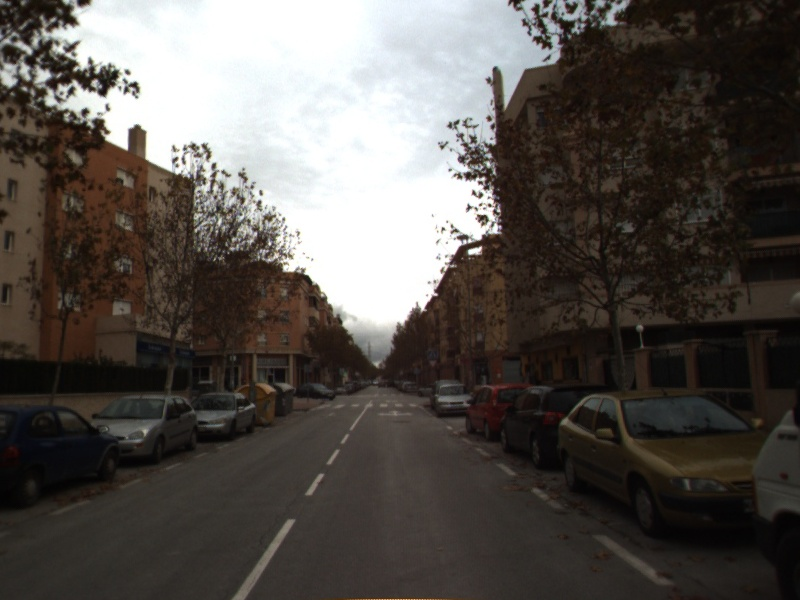STRAIGHT_LEFT_RIGHT: (375, 407, 416, 419)
